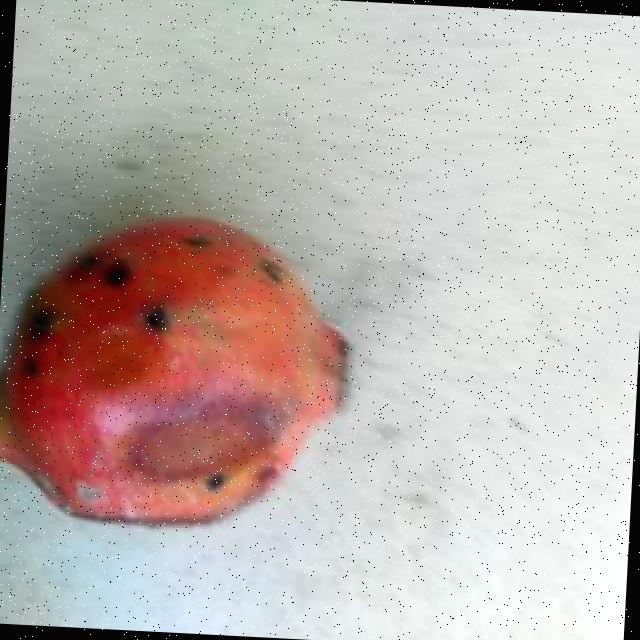overripe: (0, 204, 367, 549)
